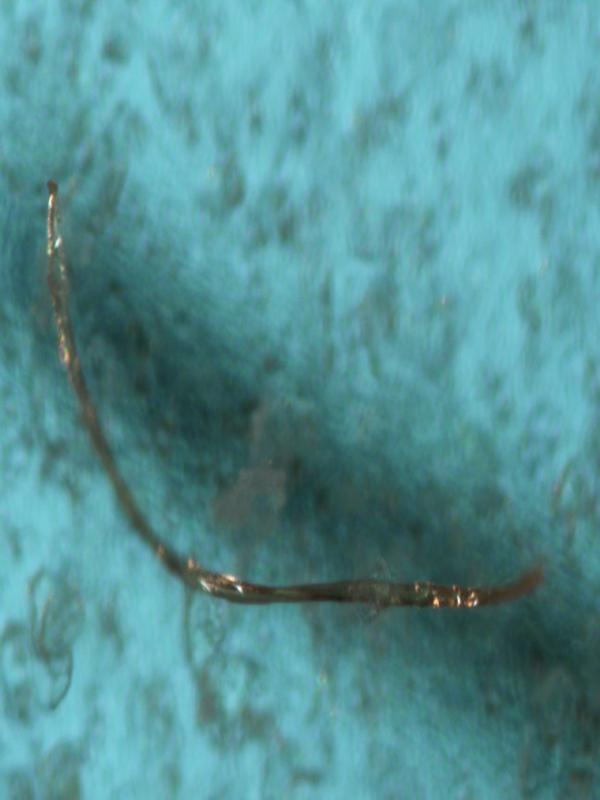microplastic: (44, 174, 545, 616)
